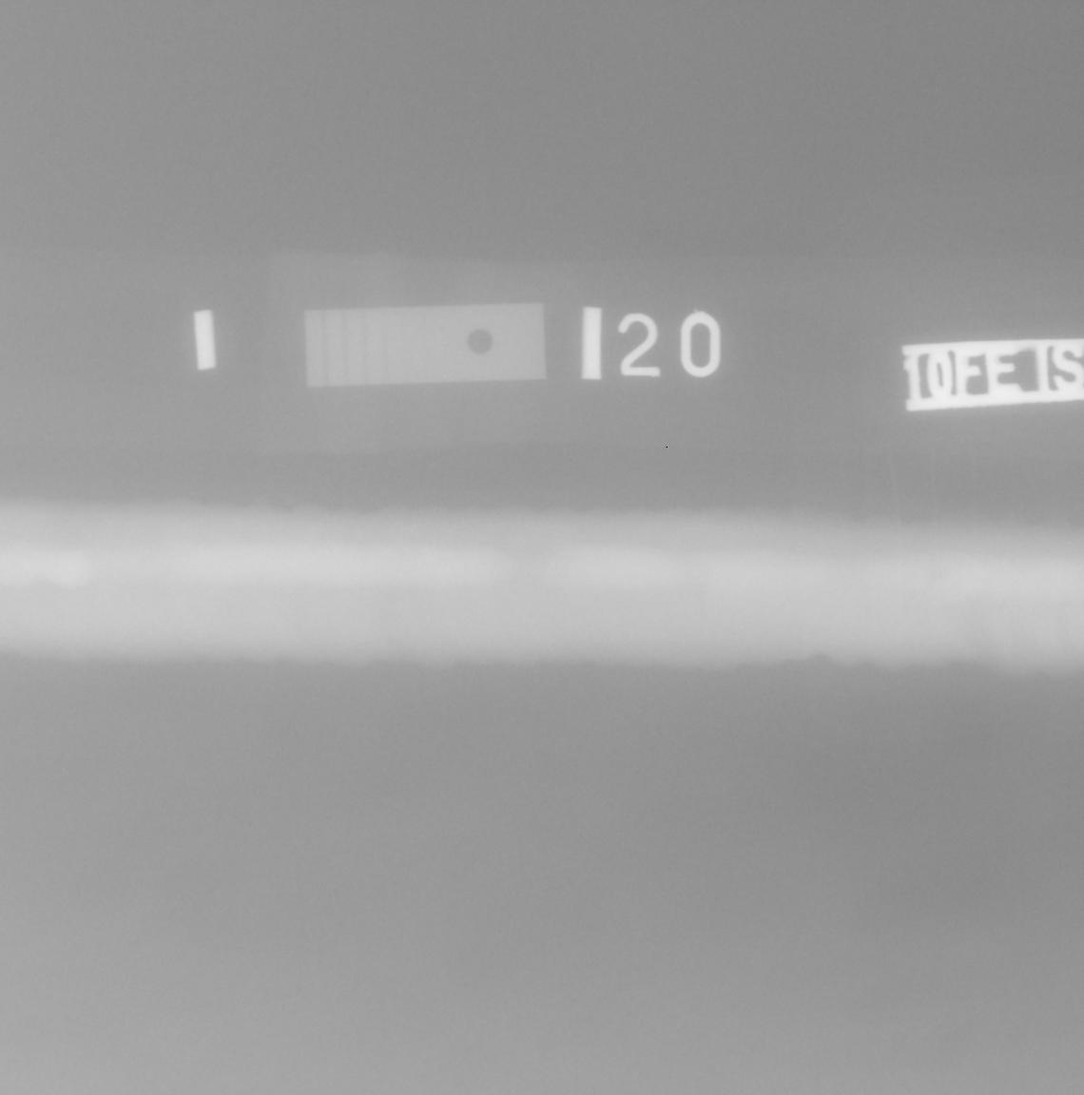Inclusion: (932, 573, 938, 579)
Reference Standard 1: (304, 302, 547, 387)
